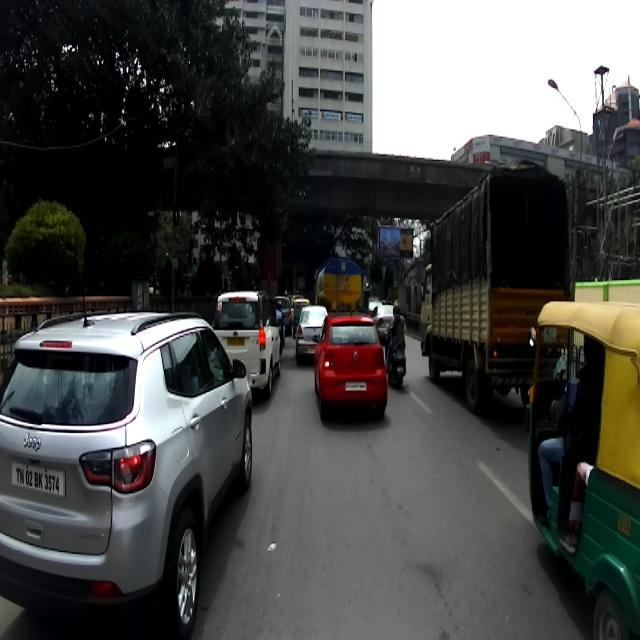autorickshaw: (522, 299, 640, 639)
car: (0, 282, 252, 639), (312, 311, 388, 420), (210, 288, 282, 401)
truck: (410, 150, 564, 437)
